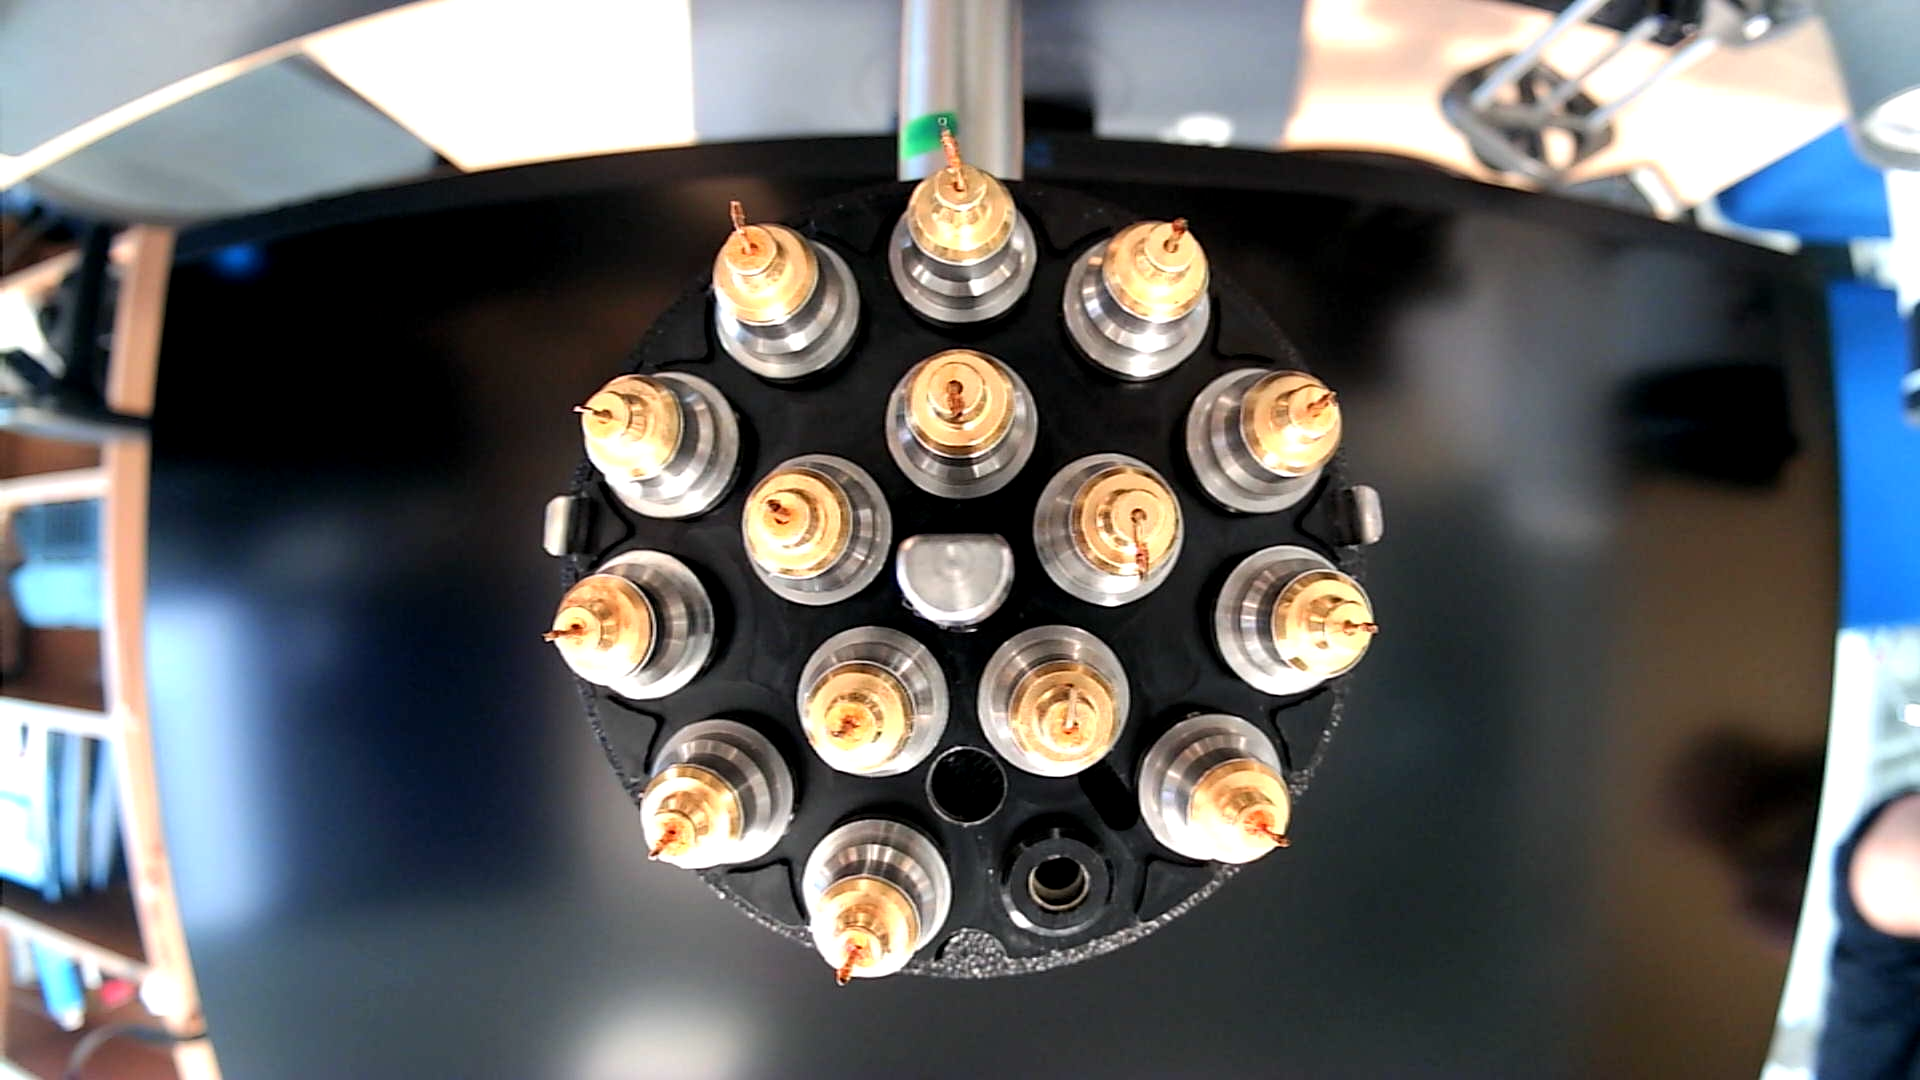bent: (887, 119, 1039, 326), (975, 617, 1131, 781), (880, 344, 1040, 502), (1033, 450, 1185, 613)
empty: (996, 812, 1120, 945)
hole: (924, 745, 1009, 829)
pin: (705, 193, 862, 386), (537, 545, 723, 702), (798, 808, 953, 986), (1203, 545, 1375, 702), (572, 365, 745, 520), (1131, 711, 1292, 872), (1064, 211, 1215, 382), (636, 713, 793, 874), (791, 622, 949, 779), (737, 450, 893, 607), (1185, 363, 1345, 516)
rod: (891, 527, 1017, 632)
